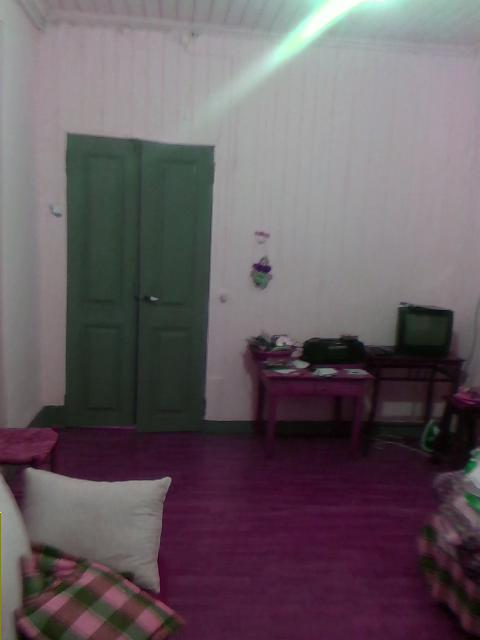closed_door: (64, 131, 214, 425)
